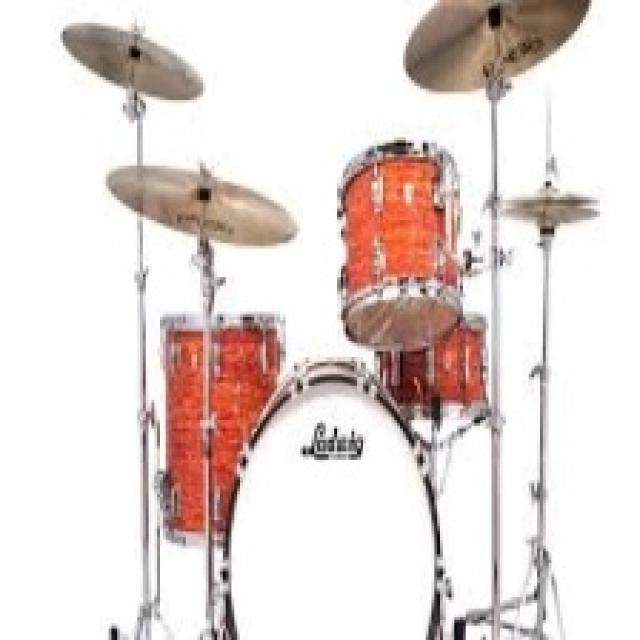drums: (61, 0, 605, 640)
